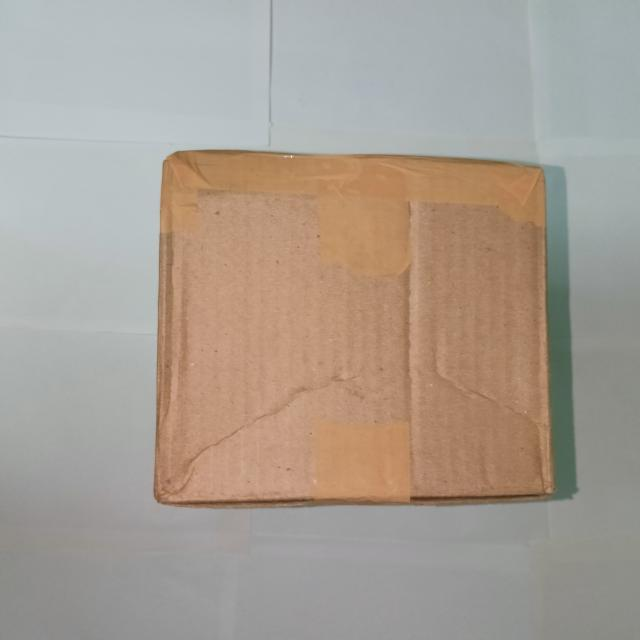box: (154, 164, 555, 499)
